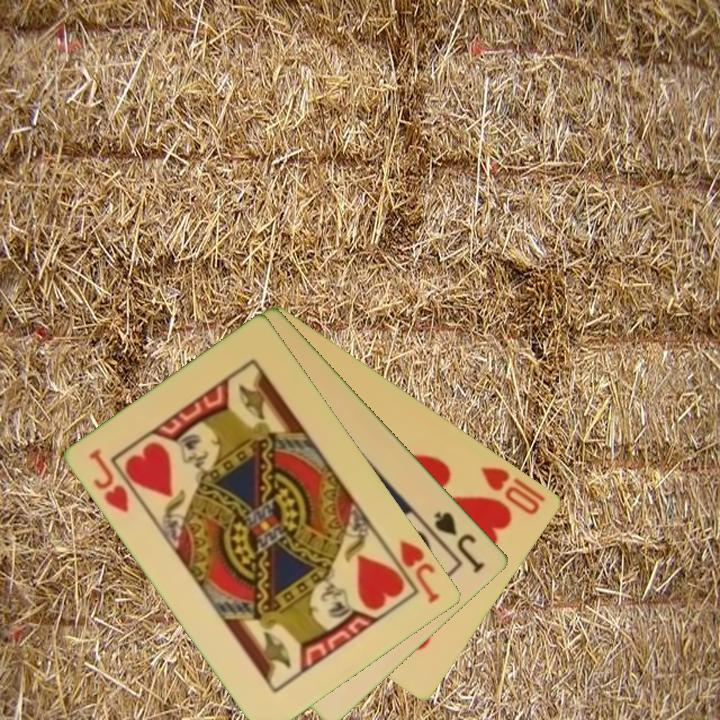10h: (477, 463, 549, 518)
Jh: (396, 536, 443, 607), (86, 445, 133, 516)
Js: (431, 507, 489, 576)
